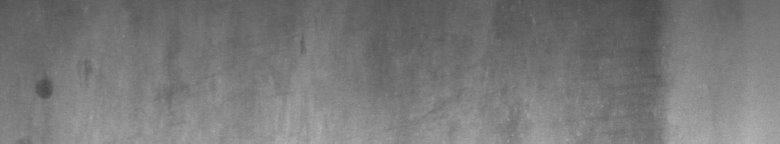fi: (35, 60, 96, 104)
